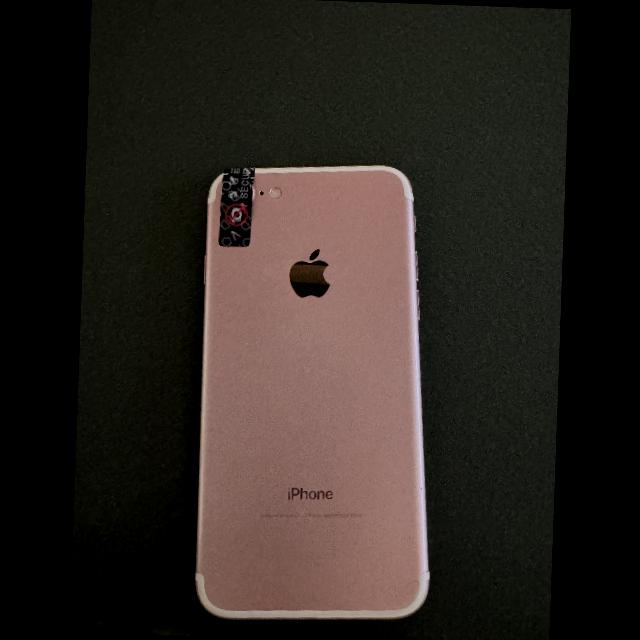phone: (195, 166, 429, 619)
sticker: (219, 167, 252, 247)
